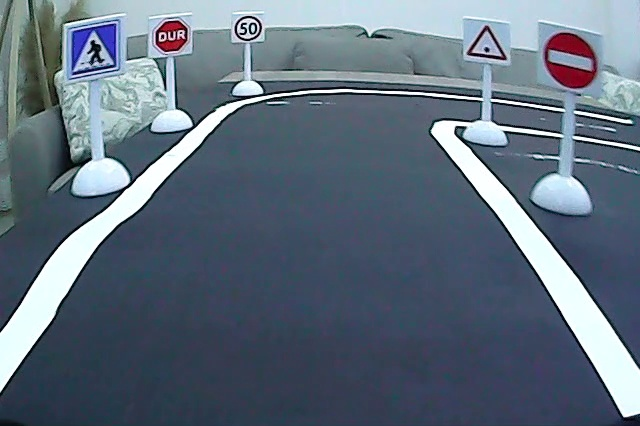do not enter: (540, 29, 600, 92)
green light: (465, 22, 510, 62)
pedestrian crossing: (69, 22, 119, 77)
speed limit 50: (231, 15, 265, 43)
stop sign: (152, 17, 192, 56)
